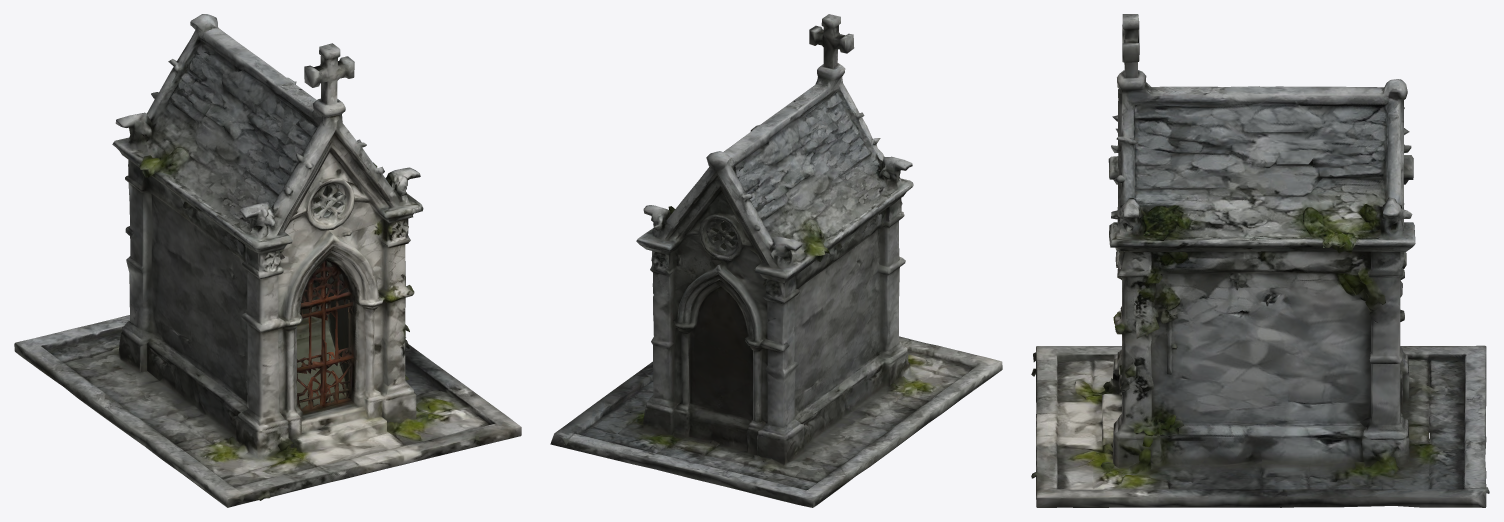
The model's file is mausoleum.glb.
3 views of the same model, side by side, from view 1: azimuth 30°, elevation 25°; view 2: azimuth 150°, elevation 25°; view 3: azimuth 270°, elevation 25° (orthographic). The views are drawn at different scales.
Visible parts, largest first — view 1: Part; view 2: Part; view 3: Part.
Part boxes in pixels (x1=…): Part: x1=14, y1=14, x2=521, y2=507; Part: x1=550, y1=14, x2=1002, y2=507; Part: x1=1031, y1=14, x2=1489, y2=507.
Size of the model in its own units: 3.62 by 4.6 by 4.61.
1 material, 1 textured.
